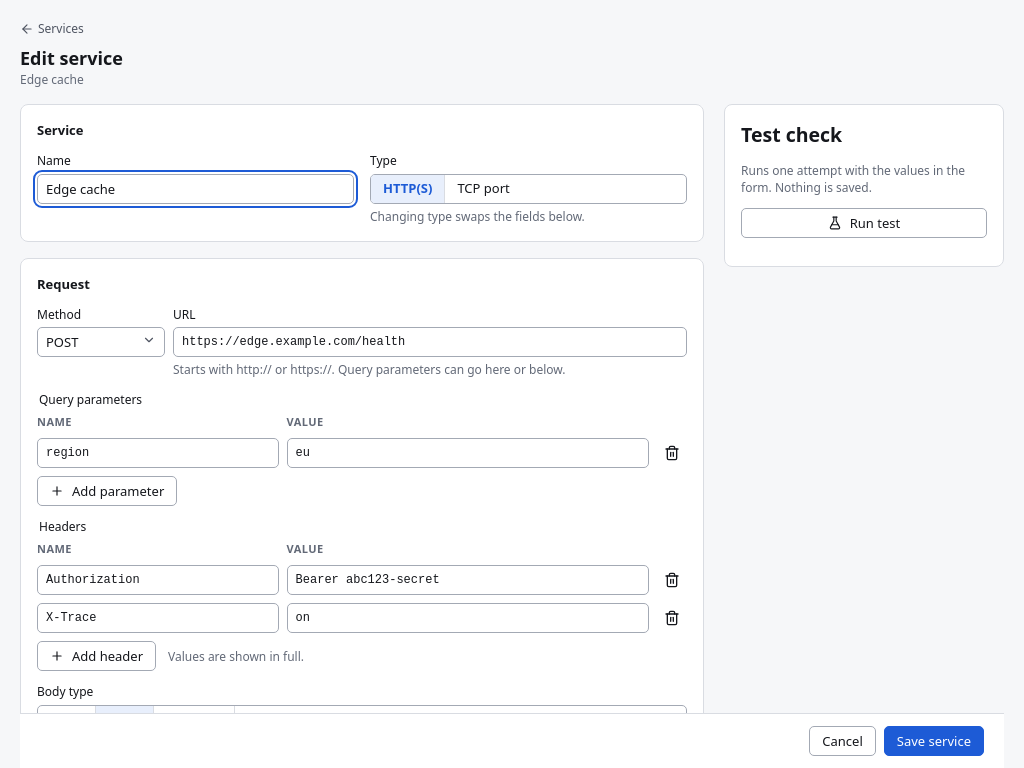
saving (FR-7, FR-20, FR-65, FR-66) › on success goes to /, drops the list, shows the response name in the toast, asks nothing and does not refetch
The image size is (1024, 768).
Expected: the heading "Edit service" is shown, [20, 46, 123, 70]
Replace the text in the field labelled "Name" with "  Typed name  ": {"x": 196, "y": 189} [37, 174, 354, 204]
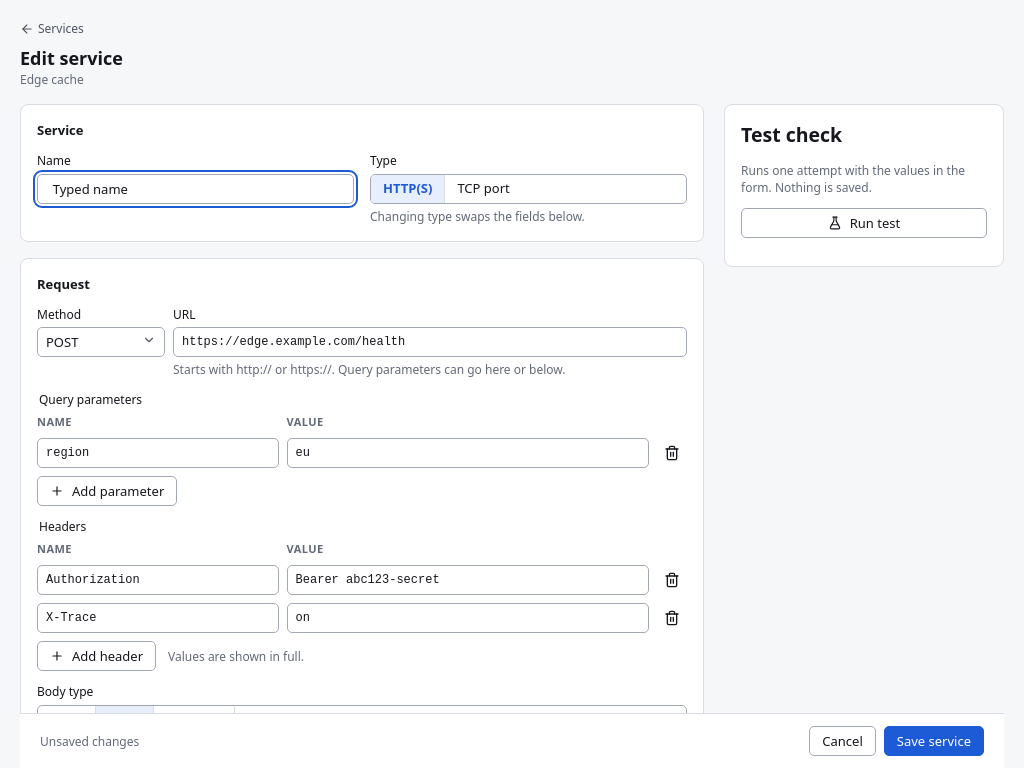
Click the button "Save service": {"x": 934, "y": 741} [884, 726, 984, 756]
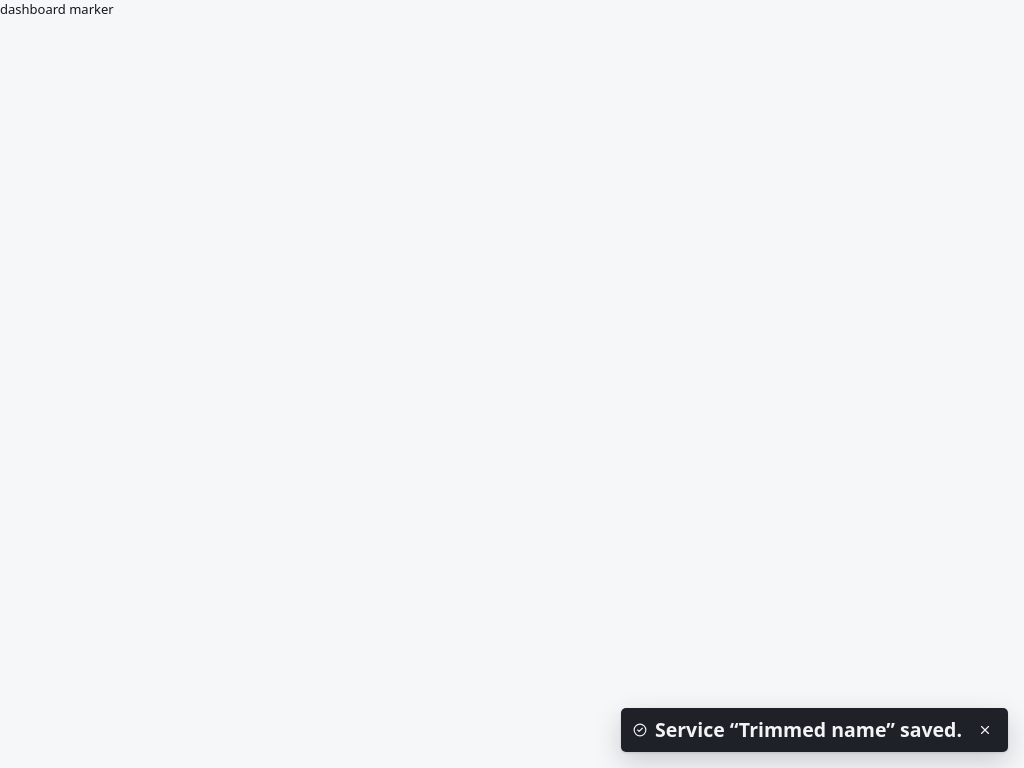
Result: the heading "Service “Trimmed name” saved." is shown at [655, 716, 962, 744]
